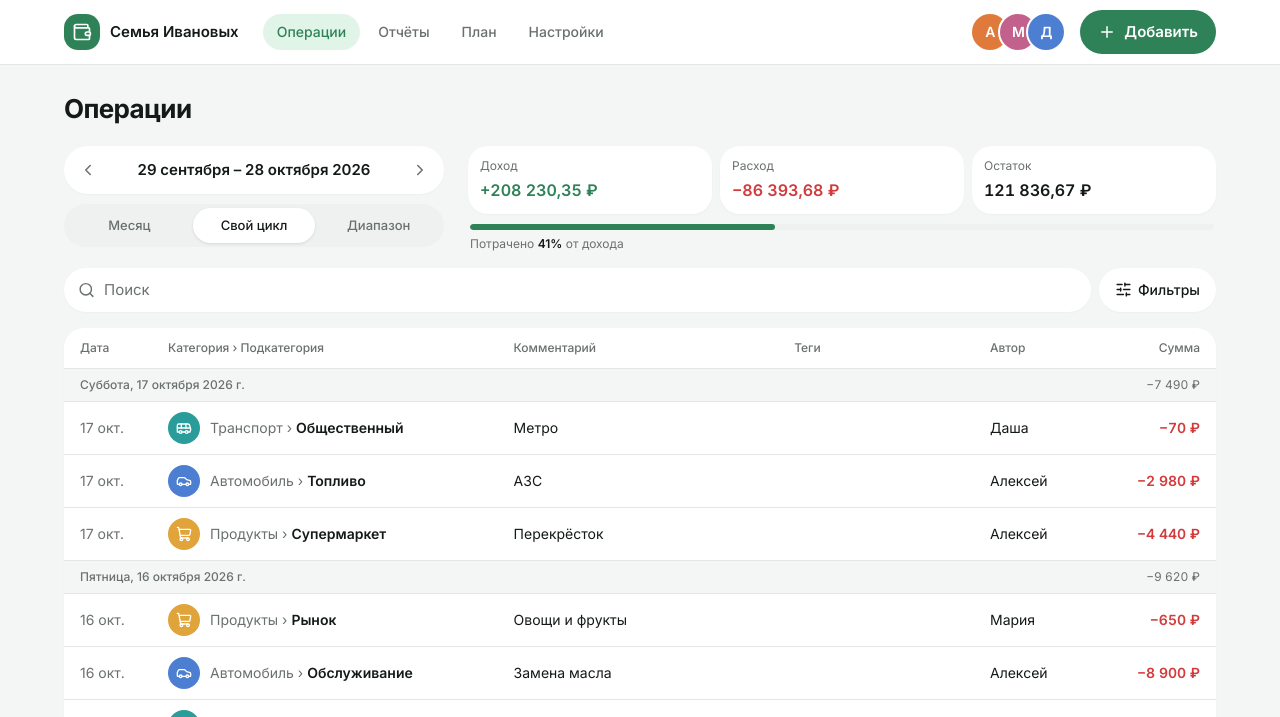
it: Экран «Операции» › ошибка сервера — экран с «Повторить», после восстановления данные загружаются (ERR-4)
Click the button named "Следующий период". click: (420, 170)
box: [400,150,440,190]
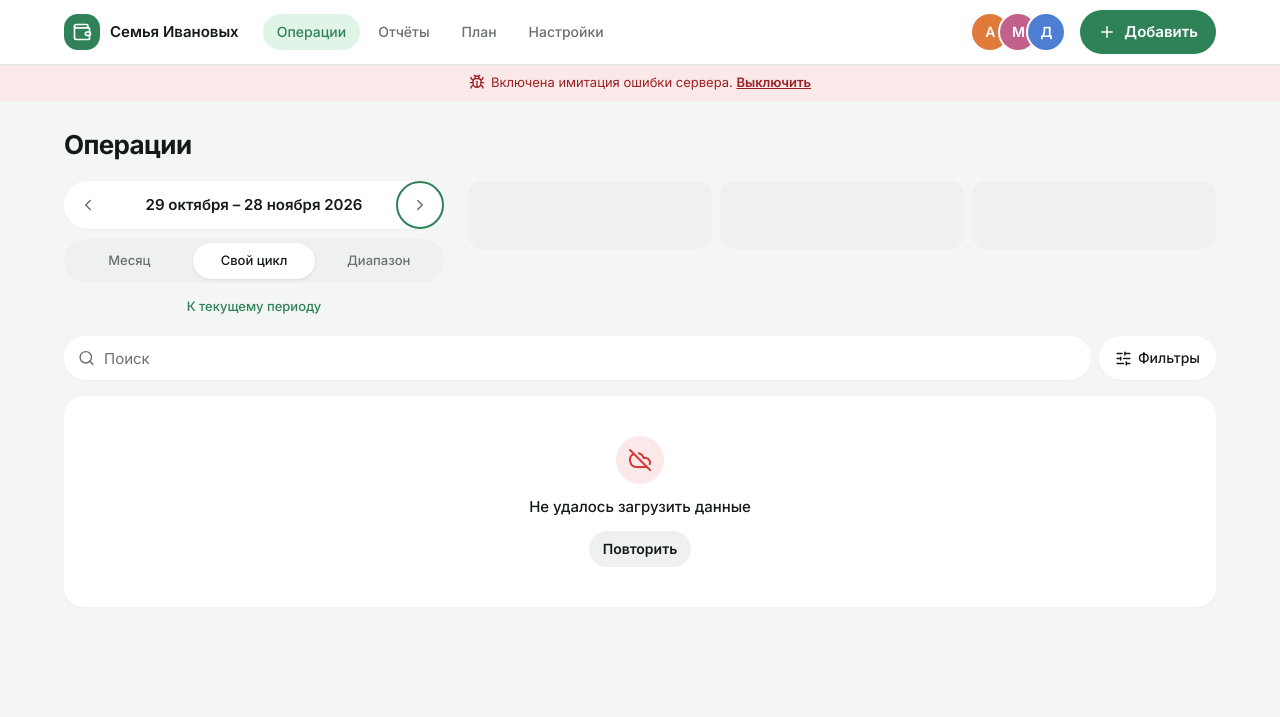
expect the text "Не удалось загрузить данные" is shown: met, box [529,496,751,518]
Click the button "Повторить". click: (640, 548)
box: [589,530,691,566]
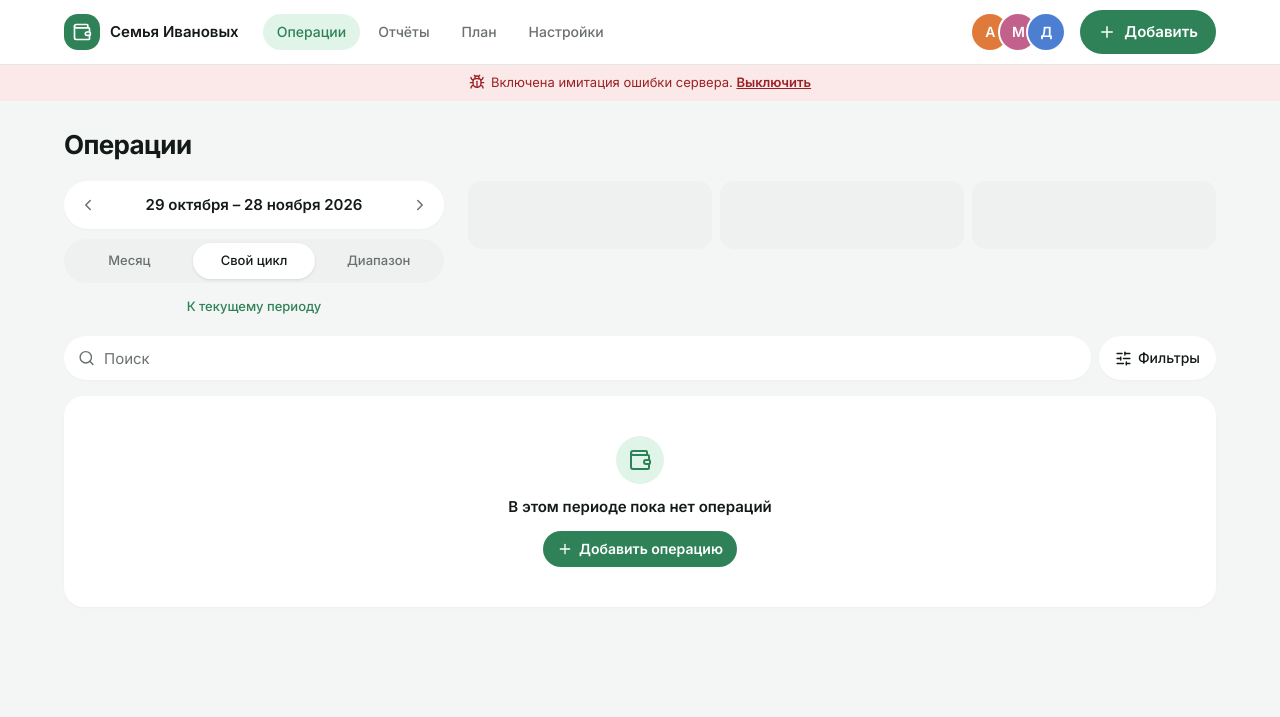
expect the text "В этом периоде пока нет операций" is shown: met, box [508,496,772,518]
